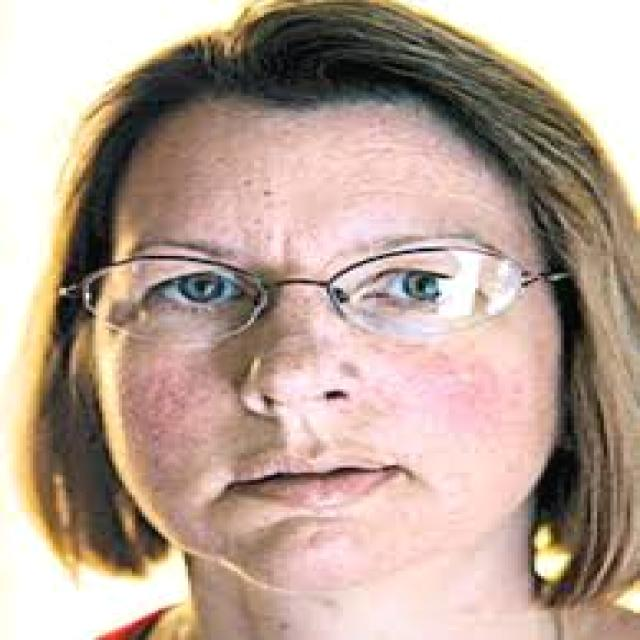normal_face: (89, 60, 576, 590)
